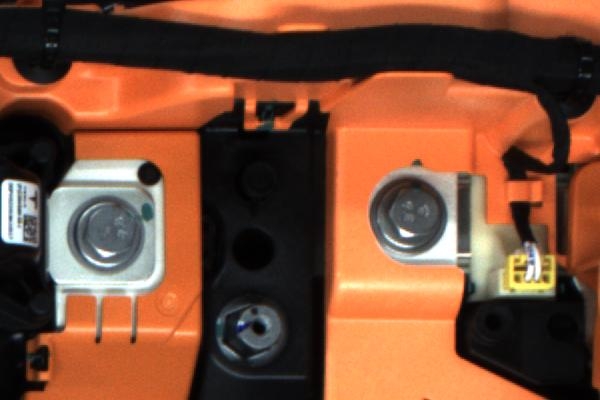nut_b: (362, 171, 450, 259), (57, 196, 150, 272)
